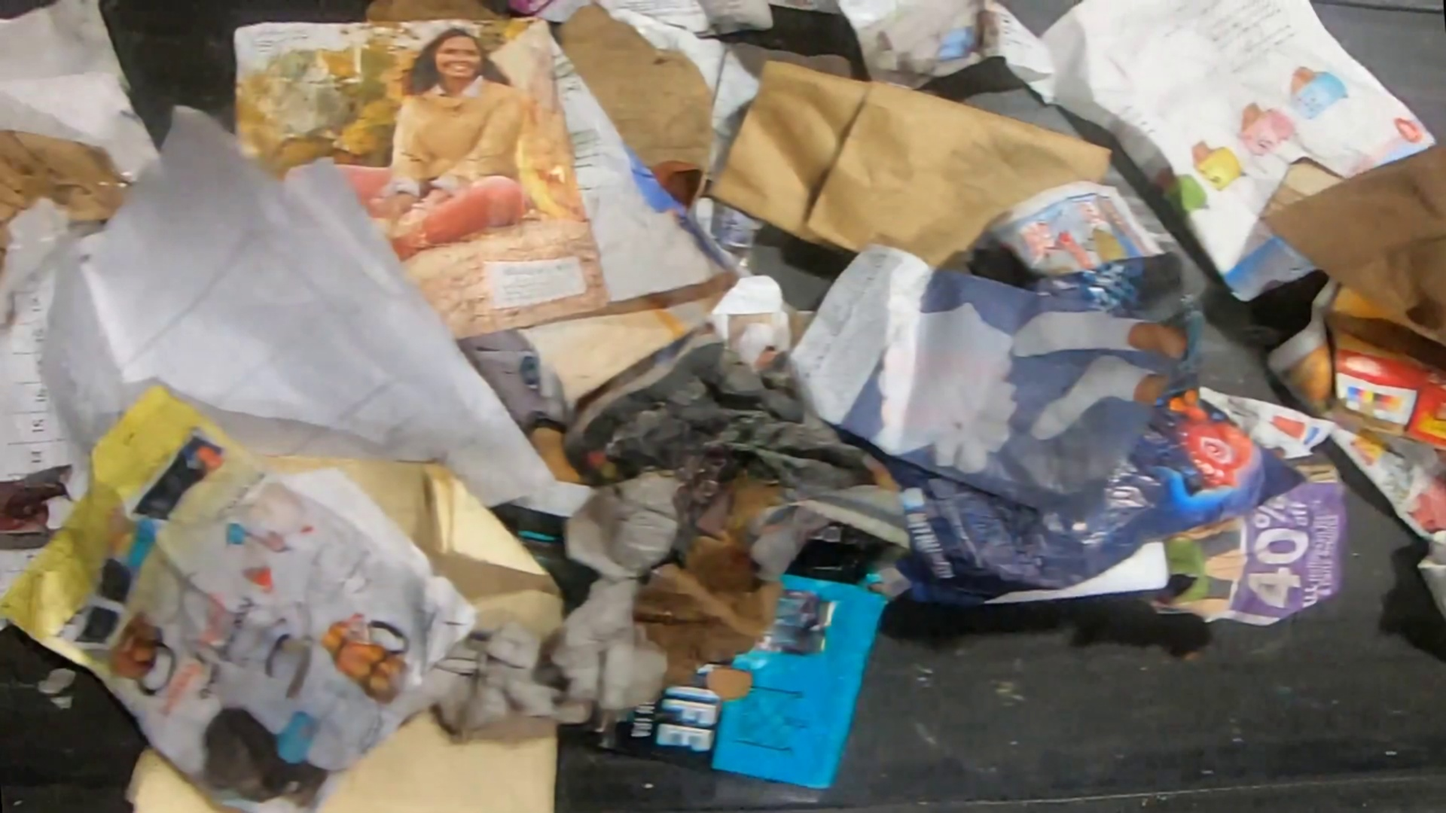cardboard: (570, 571, 893, 789), (1256, 141, 1446, 350), (552, 0, 714, 208), (1325, 283, 1446, 453), (0, 128, 133, 229), (523, 422, 615, 489), (357, 0, 510, 22)
